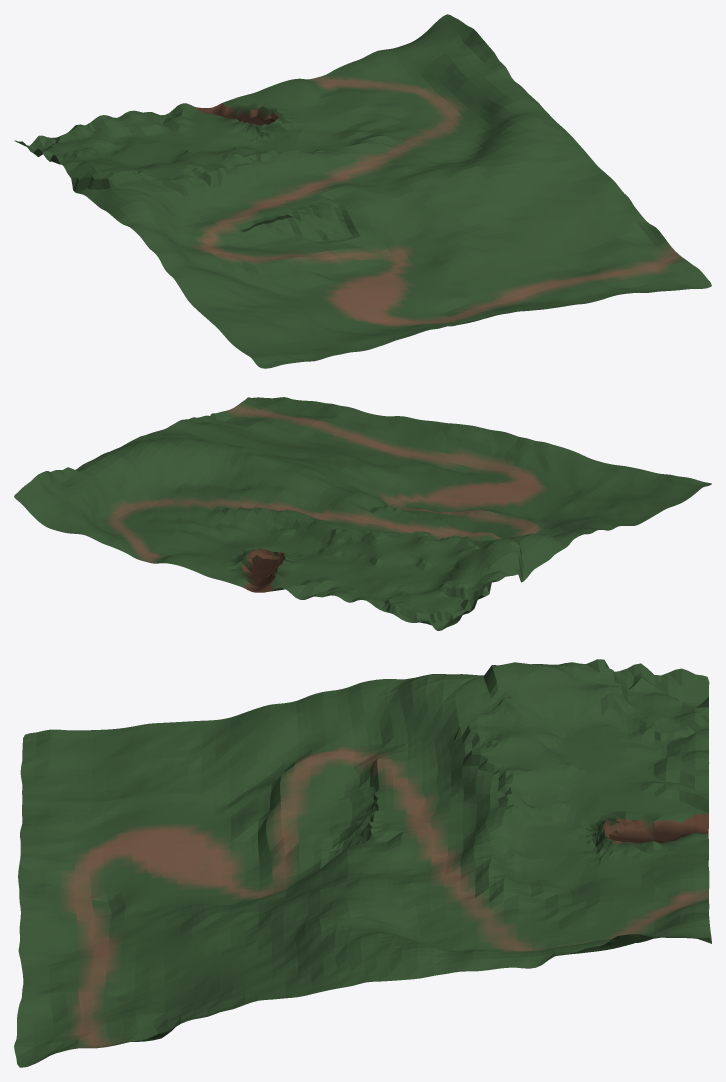
Rendered from Tutorial_map_highpoly.fbx.
The picture shows the model from 3 angles, top to bottom: view 1: azimuth 30°, elevation 25°; view 2: azimuth 150°, elevation 25°; view 3: azimuth 270°, elevation 25°; orthographic projection. The views are drawn at different scales.
Parts seen in each view (by area): view 1: map02; view 2: map02; view 3: map02.
Part boxes in pixels (x1=…): map02: x1=14, y1=14, x2=711, y2=368; map02: x1=14, y1=397, x2=711, y2=630; map02: x1=14, y1=659, x2=711, y2=1067.
Bounding box in the file's own units: 191 × 37.63 × 188.
